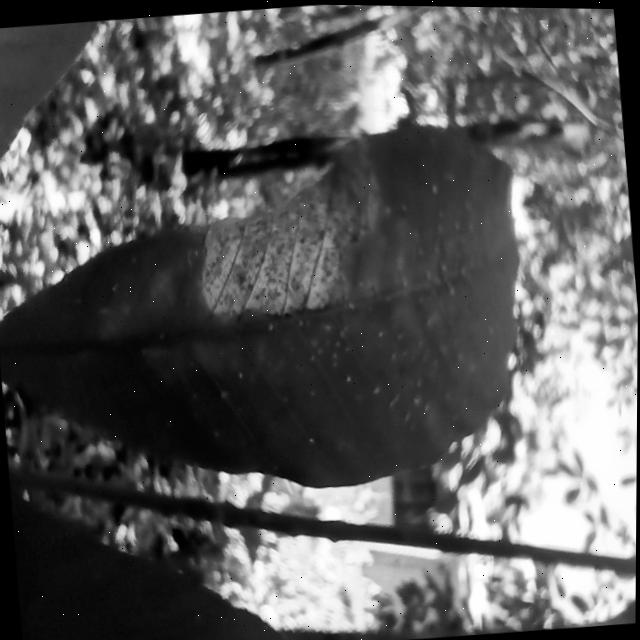Leaf-Blight: (189, 131, 390, 322)
